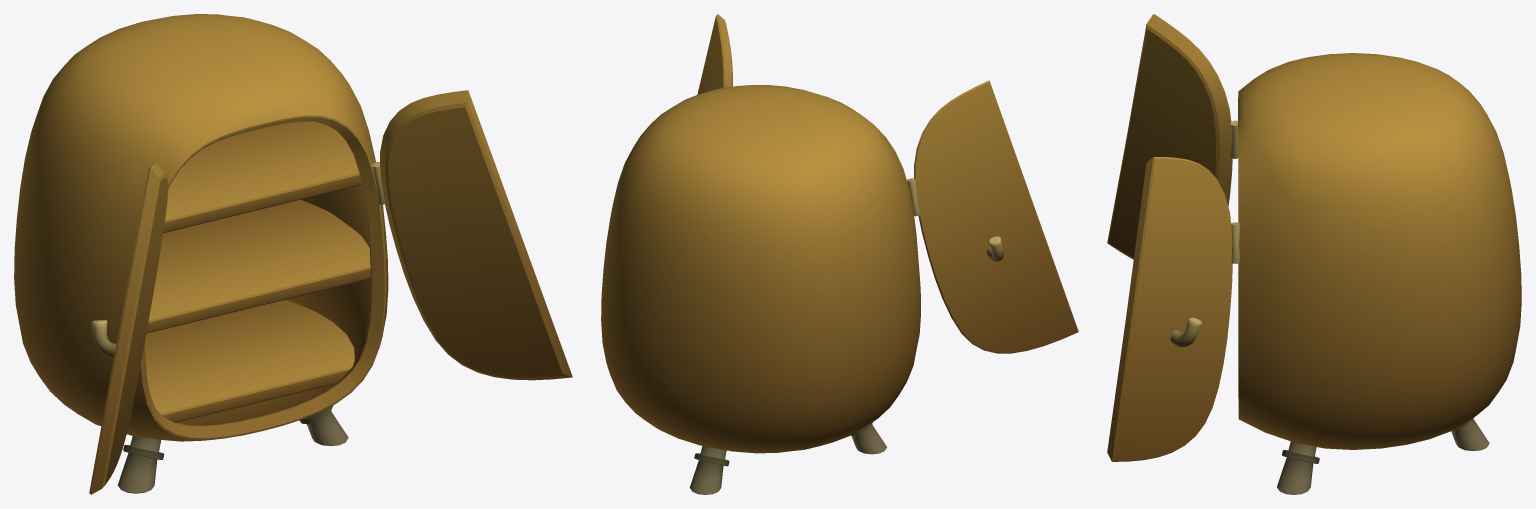
The model's file is CABINET_MDL.fbx.
3 renders of one model, left to right at view 1: azimuth 30°, elevation 25°; view 2: azimuth 150°, elevation 25°; view 3: azimuth 270°, elevation 25°, orthographic. The views are drawn at different scales.
Parts seen in each view (by area): view 1: CABINET_MAIN, CABINET_DOOR_R, CABINET_DOOR_L; view 2: CABINET_MAIN, CABINET_DOOR_L, CABINET_DOOR_R; view 3: CABINET_MAIN, CABINET_DOOR_R, CABINET_DOOR_L.
Boxes of the visible parts, box(x1,y1,x2,y2) form: CABINET_MAIN: box(14, 14, 388, 493); CABINET_DOOR_R: box(371, 90, 572, 380); CABINET_DOOR_L: box(89, 163, 168, 494); CABINET_MAIN: box(601, 85, 920, 494); CABINET_DOOR_L: box(907, 80, 1078, 353); CABINET_DOOR_R: box(697, 14, 732, 94); CABINET_MAIN: box(1238, 53, 1521, 494); CABINET_DOOR_R: box(1107, 157, 1240, 461); CABINET_DOOR_L: box(1107, 14, 1238, 259).
Bounding box in the file's own units: 1.97 × 1.54 × 1.59.
